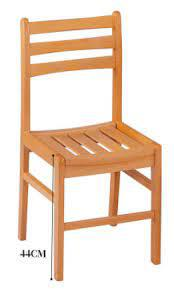chair: (8, 8, 165, 281)
